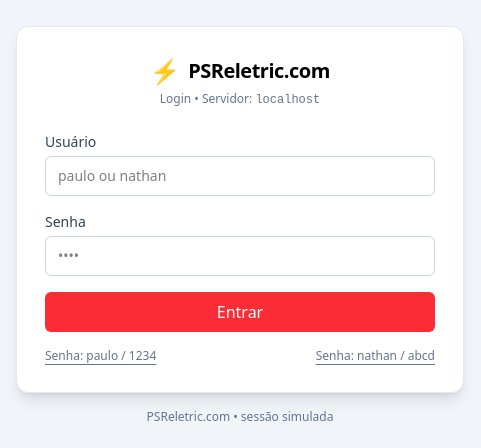
Test: Login Component › mostra erro ao tentar logar com credenciais inválidas
The width and height of the screenshot is (481, 448).
Type "invalido" into the field labelled "Usuário" at (240, 176), box [45,156,435,196]
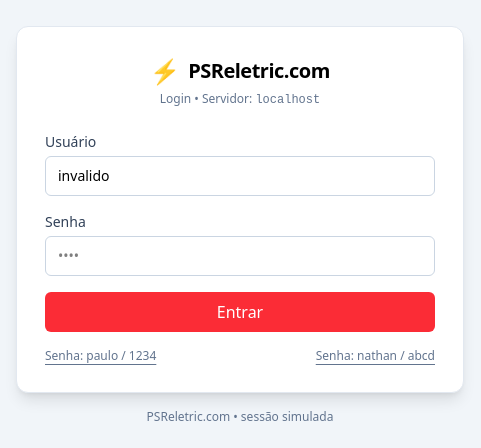
Type "errada" into the password field labelled "Senha" at (240, 256), box [45,236,435,276]
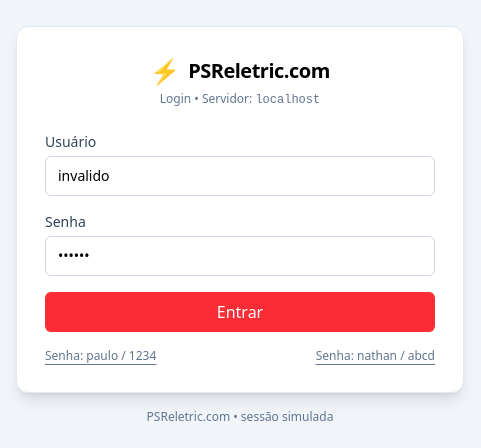
Click the button "Entrar" at (240, 312), box [45,292,435,332]
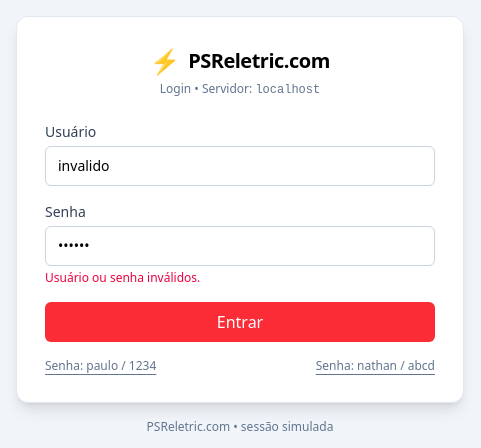
Now the text "Usuário ou senha inválidos." is shown, box [45,268,200,286]
